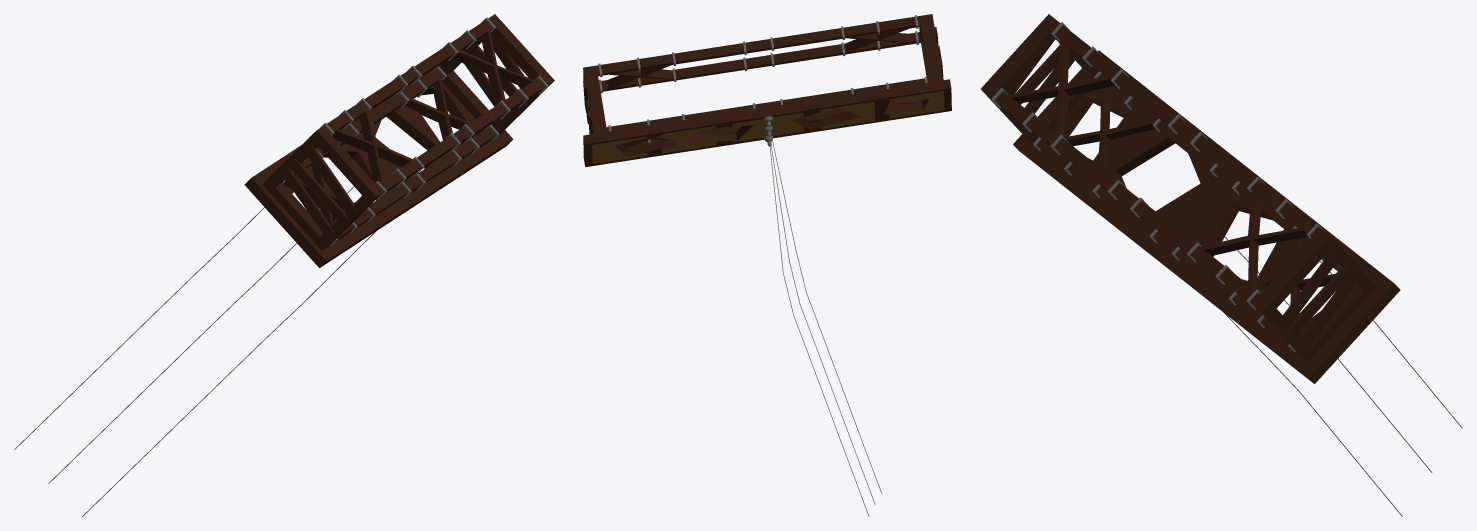
Rendered from Swinging_Buildstand.fbx.
3 views of the same model, side by side, from view 1: azimuth 30°, elevation 25°; view 2: azimuth 150°, elevation 25°; view 3: azimuth 270°, elevation 25° (orthographic). The views are drawn at different scales.
Parts seen in each view (by area): view 1: Floor_Holder, Floor; view 2: Floor_Holder, Floor, Rope_Holder, Rope_Holder.002, Rope_Holder.001; view 3: Floor_Holder, Floor.
Part boxes in pixels (x1,y1,x2,y2): Floor_Holder: (262, 14, 554, 250); Floor: (244, 63, 513, 267); Floor_Holder: (583, 14, 943, 149); Floor: (583, 79, 951, 167); Rope_Holder: (763, 126, 875, 505); Rope_Holder.002: (763, 116, 881, 493); Rope_Holder.001: (764, 136, 869, 516); Floor_Holder: (981, 14, 1376, 361); Floor: (1013, 50, 1400, 383).
Size of the model in its own units: 13.27 by 13.49 by 10.79.
